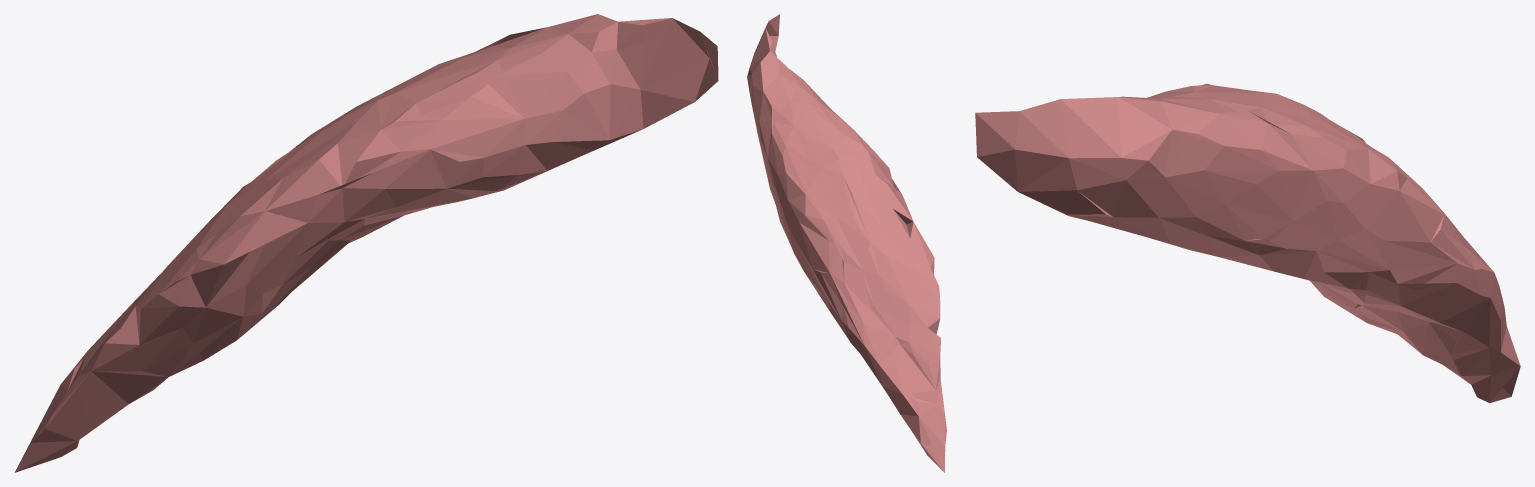
The model's file is Teres_minor_muscle.l.glb.
3 renders of one model, left to right at view 1: azimuth 30°, elevation 25°; view 2: azimuth 150°, elevation 25°; view 3: azimuth 270°, elevation 25°, orthographic. The views are drawn at different scales.
Visible parts, largest first — view 1: Teres_minor_muscle.l; view 2: Teres_minor_muscle.l; view 3: Teres_minor_muscle.l.
Boxes of the visible parts, bbox=[...] form: Teres_minor_muscle.l: bbox=[14, 14, 718, 472]; Teres_minor_muscle.l: bbox=[747, 14, 946, 472]; Teres_minor_muscle.l: bbox=[975, 83, 1520, 403].
Size of the model in its own units: 0.0933 by 0.0855 by 0.0725.
